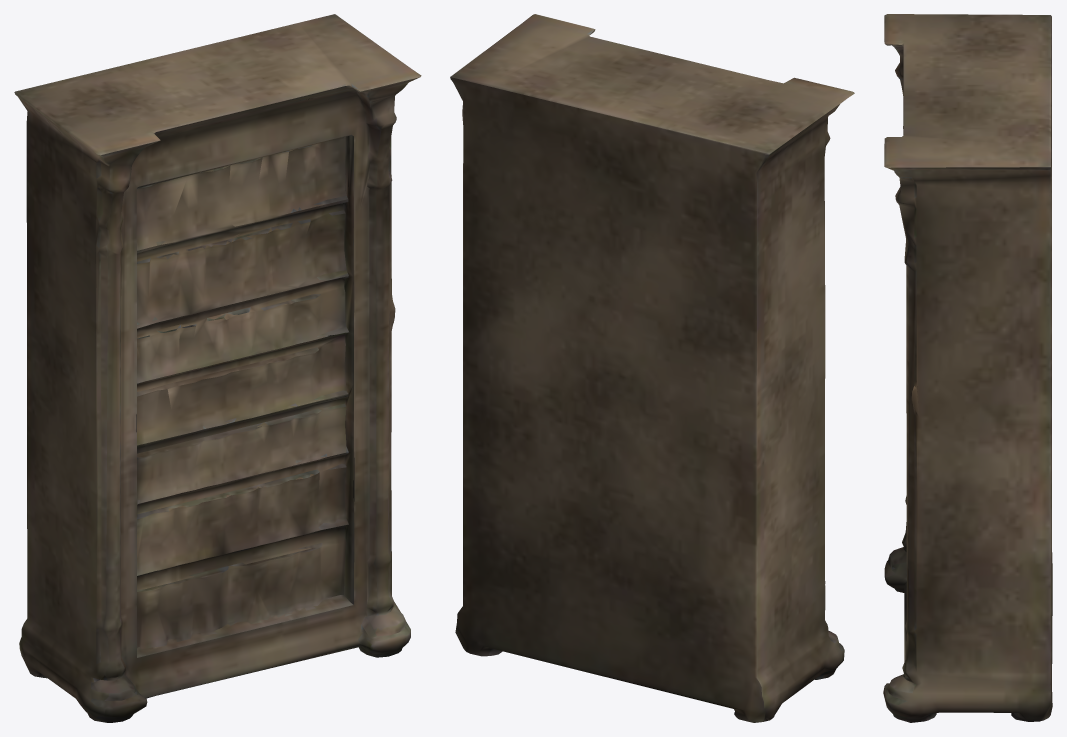
File: plain-wood-bookcase-v002.glb
3 views of the same model, side by side, from view 1: azimuth 30°, elevation 25°; view 2: azimuth 150°, elevation 25°; view 3: azimuth 270°, elevation 25° (orthographic). The views are drawn at different scales.
Visible parts, largest first — view 1: plain-wood-bookcase; view 2: plain-wood-bookcase; view 3: plain-wood-bookcase.
Part boxes in pixels (x1,y1,x2,y2): plain-wood-bookcase: [14, 14, 421, 722]; plain-wood-bookcase: [450, 14, 854, 722]; plain-wood-bookcase: [883, 14, 1052, 722].
Bounding box in the file's own units: 1.32 × 2.25 × 0.6153.
1 material, 1 textured.
